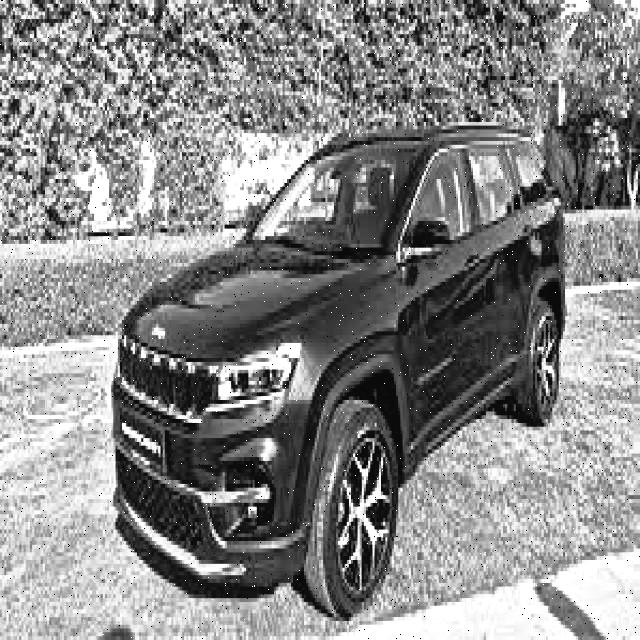Car: (110, 119, 566, 593)
